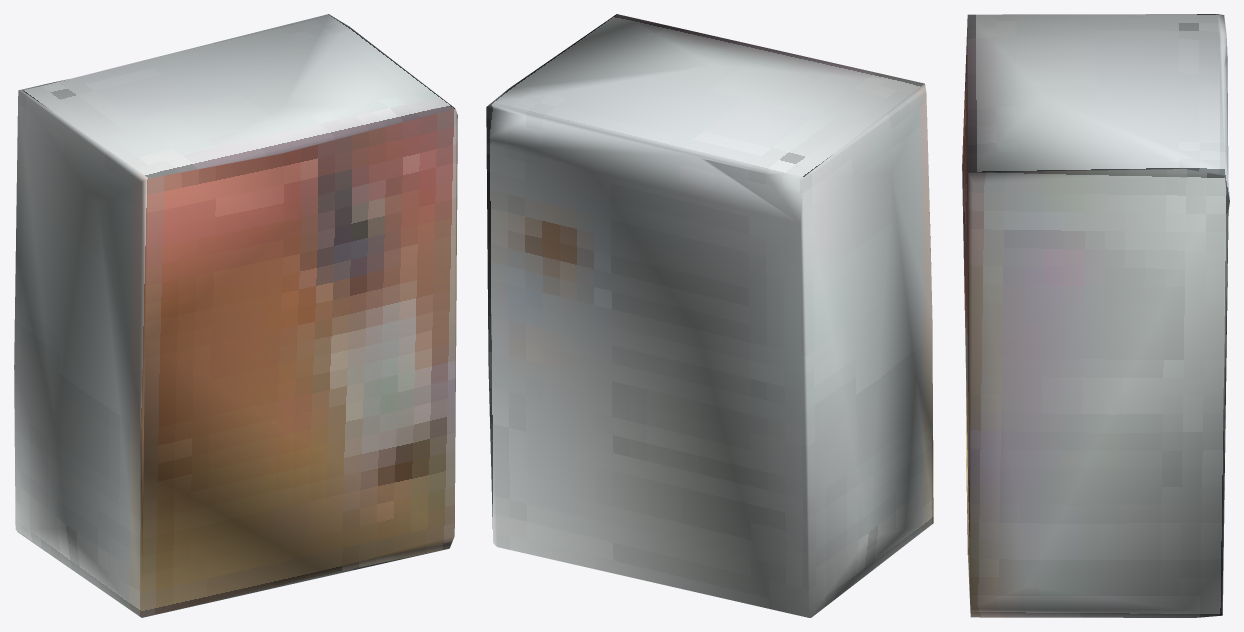
Rendered from Perricone_MD_Vitamin_C_Ester_Serum-low.glb.
3 renders of one model, left to right at view 1: azimuth 30°, elevation 25°; view 2: azimuth 150°, elevation 25°; view 3: azimuth 270°, elevation 25°, orthographic.
Parts seen in each view (by area): view 1: Perricone_MD_Vitamin_C_Ester_Serum; view 2: Perricone_MD_Vitamin_C_Ester_Serum; view 3: Perricone_MD_Vitamin_C_Ester_Serum.
Boxes of the visible parts, x1,y1,x2,y2 form: Perricone_MD_Vitamin_C_Ester_Serum: (14, 14, 457, 617); Perricone_MD_Vitamin_C_Ester_Serum: (486, 14, 933, 617); Perricone_MD_Vitamin_C_Ester_Serum: (962, 14, 1229, 617).
Size of the model in its own units: 0.0795 by 0.1049 by 0.0558.
Materials: 1 (1 with a texture image).
